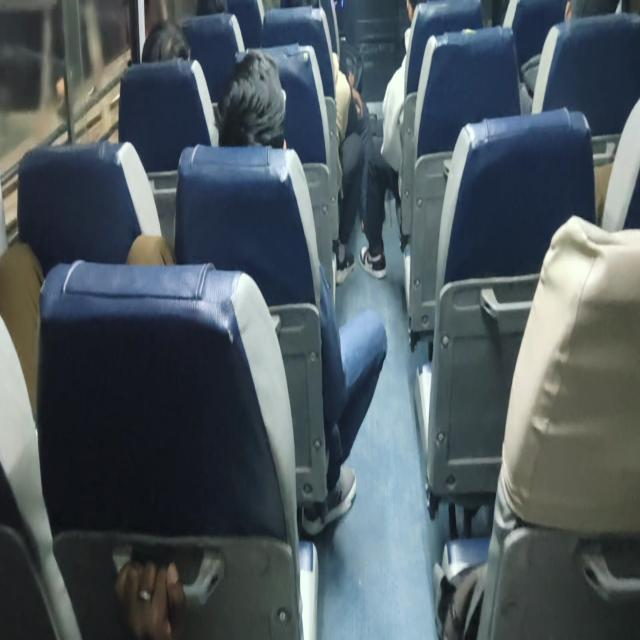person: (223, 59, 297, 152), (144, 16, 195, 65), (264, 0, 327, 28), (553, 0, 617, 21), (394, 0, 447, 24)
